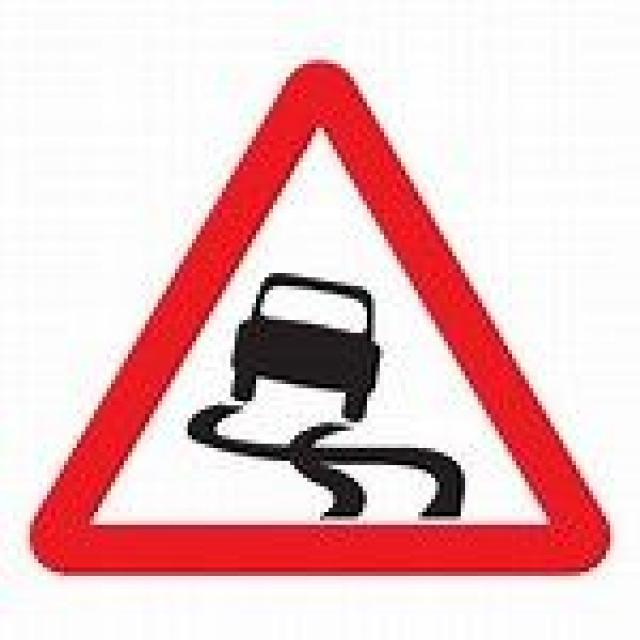slippery road: (30, 61, 606, 576)
